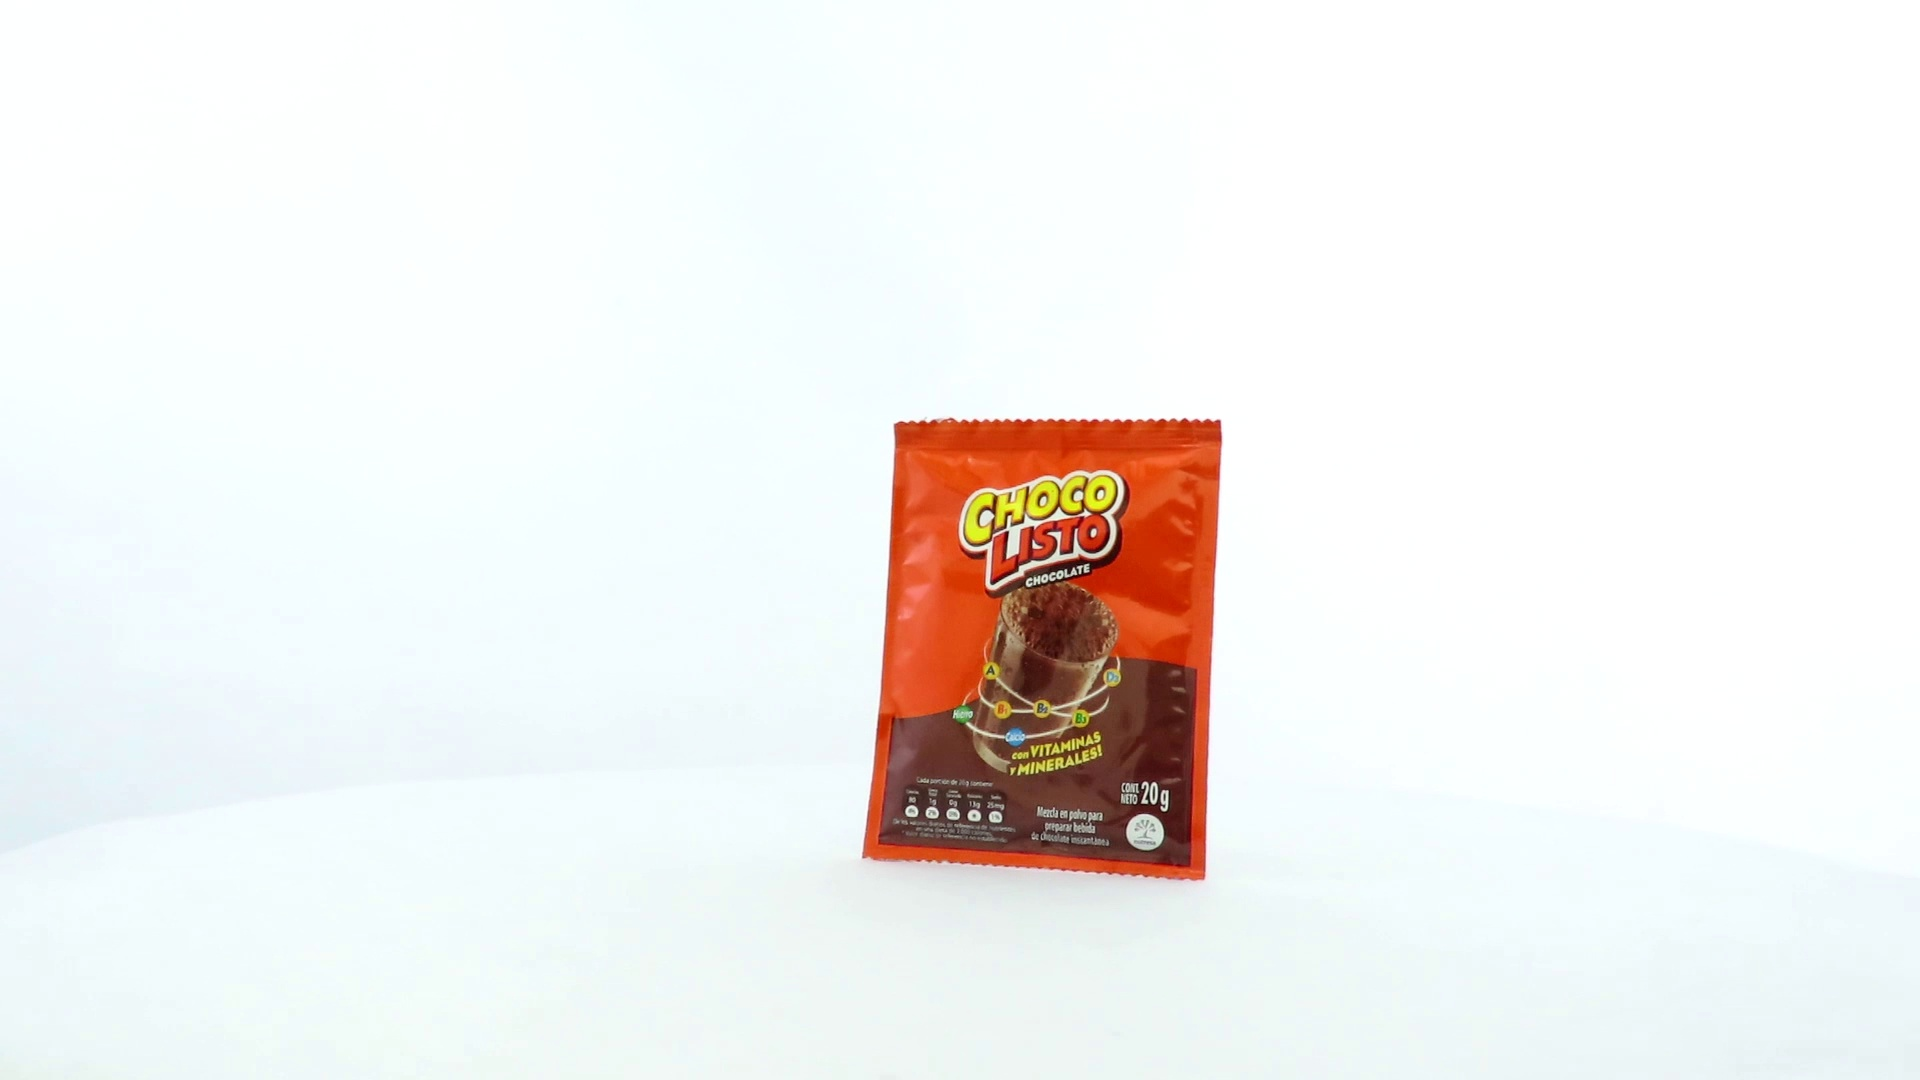COL0170103SOB02000: (857, 413, 1228, 887)
